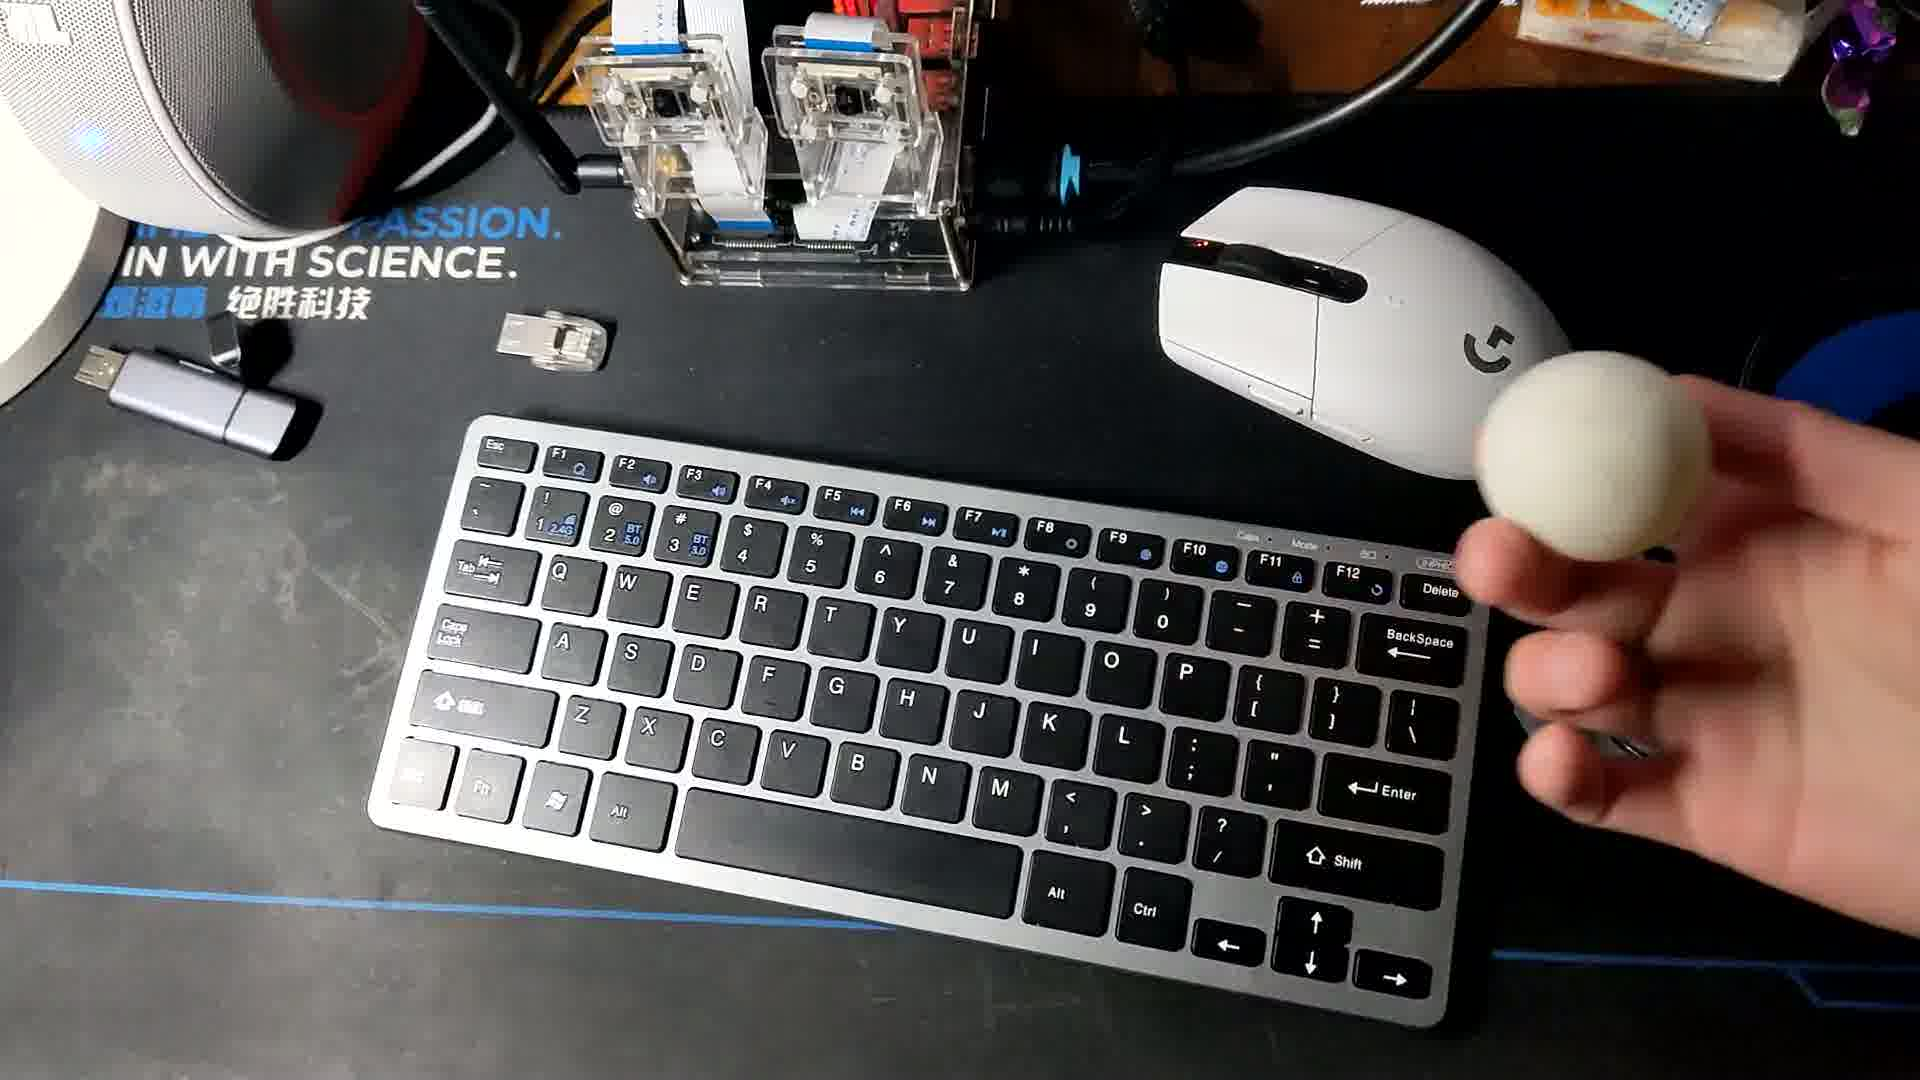Ball: (1480, 353, 1712, 568)
